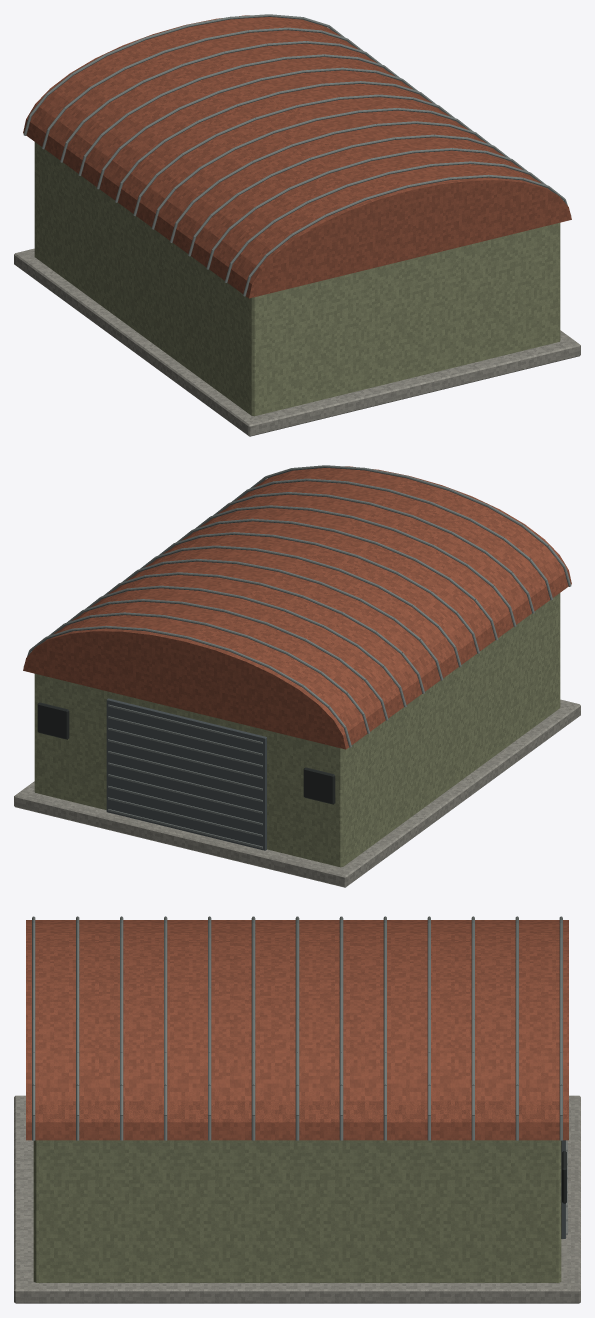
3 views of the same model, one above another, from view 1: azimuth 30°, elevation 25°; view 2: azimuth 150°, elevation 25°; view 3: azimuth 270°, elevation 25° (orthographic). The views are drawn at different scales.
Parts seen in each view (by area): view 1: ST2-B02_Mesh; view 2: ST2-B02_Mesh; view 3: ST2-B02_Mesh.
Boxes of the visible parts, bbox=[...] form: ST2-B02_Mesh: bbox=[14, 14, 580, 436]; ST2-B02_Mesh: bbox=[14, 465, 580, 887]; ST2-B02_Mesh: bbox=[14, 916, 580, 1303].
Size of the model in its own units: 7 by 4.14 by 8.6.
